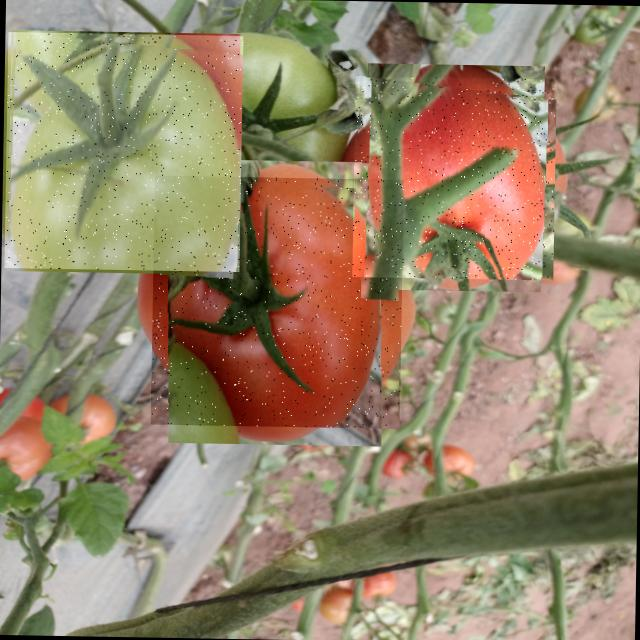Ripe Tomato: (150, 175, 404, 428), (352, 76, 556, 280)
Unripe Tomato: (4, 32, 243, 272)
